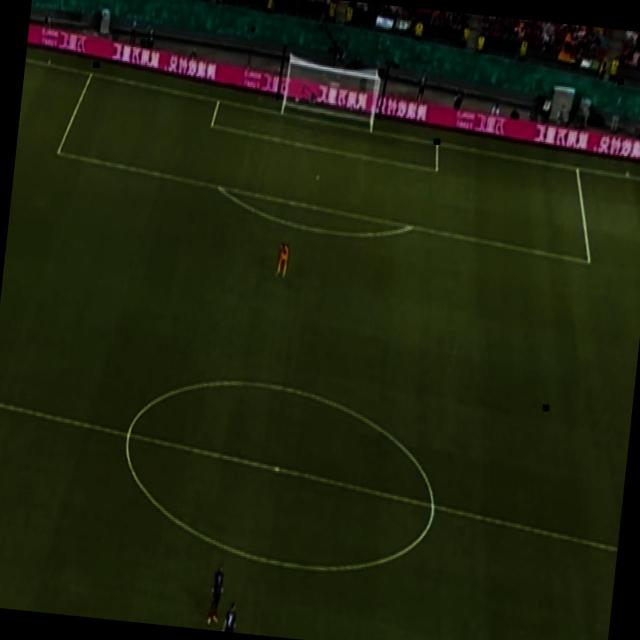player-white: (206, 561, 227, 627), (221, 599, 241, 633), (275, 240, 291, 280)
